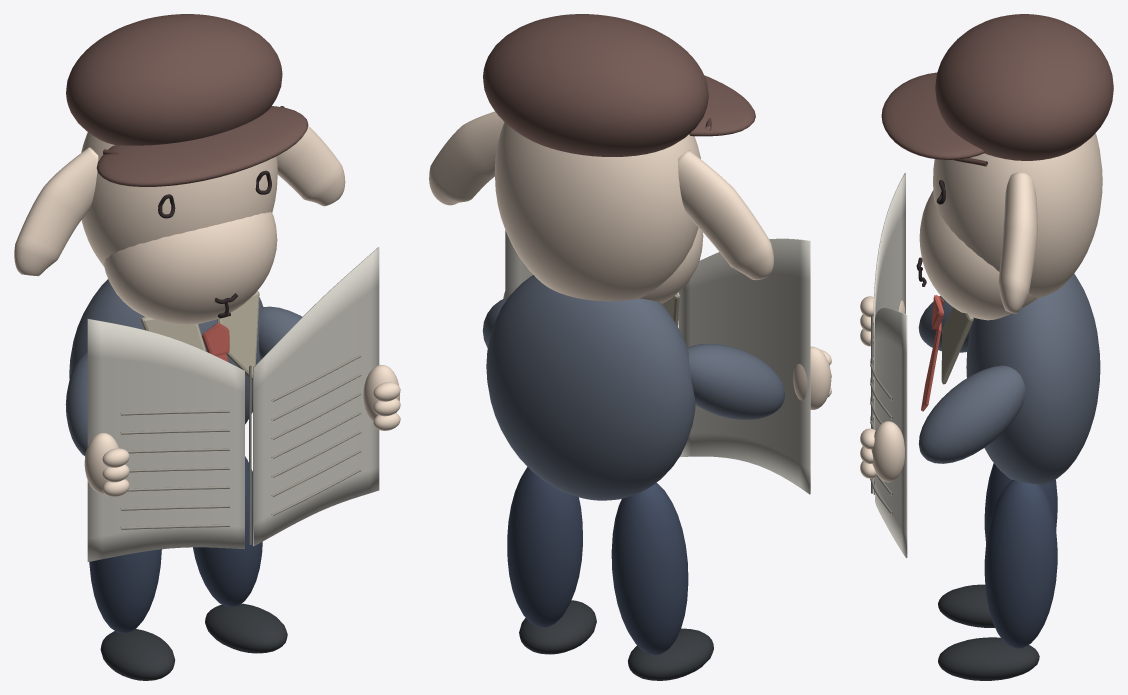
Rendered from goat-normal.glb.
The picture shows the model from 3 angles, left to right: view 1: azimuth 30°, elevation 25°; view 2: azimuth 150°, elevation 25°; view 3: azimuth 270°, elevation 25°; orthographic projection. The views are drawn at different scales.
Visible parts, largest first — view 1: Newspaper_Left, Newspaper_Right, Cap_Crown, Long_Muzzle, Goat_Head, Cap_Visor, Drooping_Ear_L, Trouser_Leg, Trouser_Leg.001, Drooping_Ear_R, Hoof.001, Hoof (+8 smaller); view 2: Suit_Jacket, Goat_Head, Cap_Crown, Newspaper_Left, Trouser_Leg, Trouser_Leg.001, Drooping_Ear_L, Jacket_Sleeve, Drooping_Ear_R, Hoof, Hoof.001, Cap_Visor (+3 smaller); view 3: Cap_Crown, Suit_Jacket, Goat_Head, Trouser_Leg.001, Jacket_Sleeve.001, Long_Muzzle, Newspaper_Right, Cap_Visor, Drooping_Ear_R, Newspaper_Left, Hoof.001, Hoof (+5 smaller).
Part boxes in pixels (x1,y1,x2,y2): Newspaper_Left: (87, 318, 244, 561); Newspaper_Right: (253, 247, 379, 546); Cap_Crown: (66, 14, 282, 145); Long_Muzzle: (103, 212, 277, 324); Goat_Head: (81, 132, 277, 266); Cap_Visor: (96, 106, 308, 186); Drooping_Ear_L: (14, 147, 98, 276); Trouser_Leg: (89, 549, 161, 633); Trouser_Leg.001: (193, 456, 262, 606); Drooping_Ear_R: (277, 126, 345, 206); Hoof.001: (205, 603, 287, 653); Hoof: (100, 629, 175, 680); Suit_Jacket: (486, 275, 695, 500); Goat_Head: (494, 122, 700, 301); Cap_Crown: (483, 14, 708, 156); Newspaper_Left: (678, 238, 810, 494); Trouser_Leg: (611, 483, 688, 655); Trouser_Leg.001: (507, 467, 582, 627); Drooping_Ear_L: (678, 150, 773, 280); Jacket_Sleeve: (687, 344, 784, 419); Drooping_Ear_R: (429, 111, 504, 205); Hoof: (628, 628, 713, 680); Hoof.001: (519, 600, 596, 654); Cap_Visor: (689, 75, 755, 136); Cap_Crown: (935, 14, 1113, 160); Suit_Jacket: (966, 274, 1100, 485); Goat_Head: (933, 133, 1102, 298); Trouser_Leg.001: (984, 480, 1057, 648); Jacket_Sleeve.001: (918, 365, 1025, 463); Long_Muzzle: (919, 190, 1037, 320); Newspaper_Right: (875, 308, 907, 557); Cap_Visor: (881, 72, 984, 159); Drooping_Ear_R: (998, 172, 1037, 313); Newspaper_Left: (873, 173, 905, 494); Hoof.001: (938, 637, 1039, 680); Hoof: (938, 584, 994, 627).
Bounding box in the file's own units: 0.8488 × 1.52 × 0.568.
